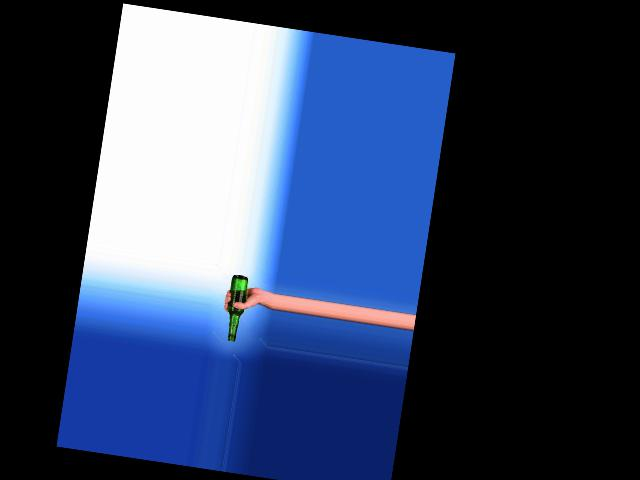beer: (223, 274, 249, 342)
